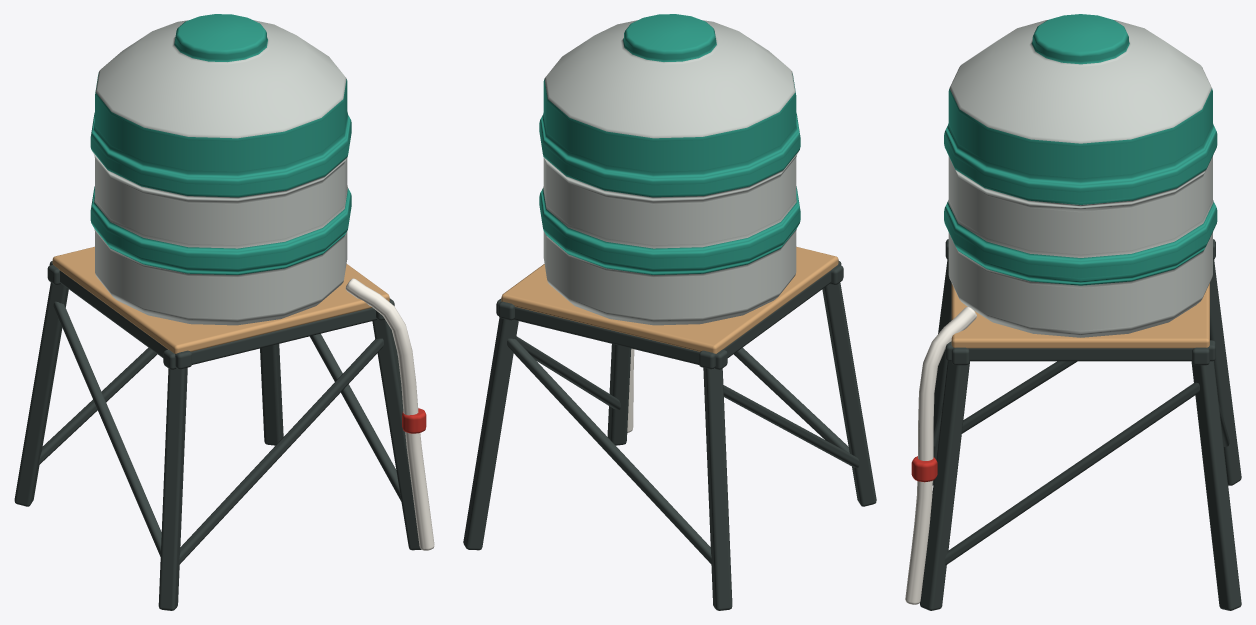
The model's file is prop_water_tank.glb.
3 renders of one model, left to right at view 1: azimuth 30°, elevation 25°; view 2: azimuth 150°, elevation 25°; view 3: azimuth 270°, elevation 25°, orthographic. The views are drawn at different scales.
Visible parts, largest first — view 1: prop_water_tank; view 2: prop_water_tank; view 3: prop_water_tank.
Part boxes in pixels (x1,y1,x2,y2): prop_water_tank: [14, 14, 434, 610]; prop_water_tank: [463, 14, 876, 610]; prop_water_tank: [905, 14, 1241, 610].
Size of the model in its own units: 1.07 by 1.9 by 1.12.
